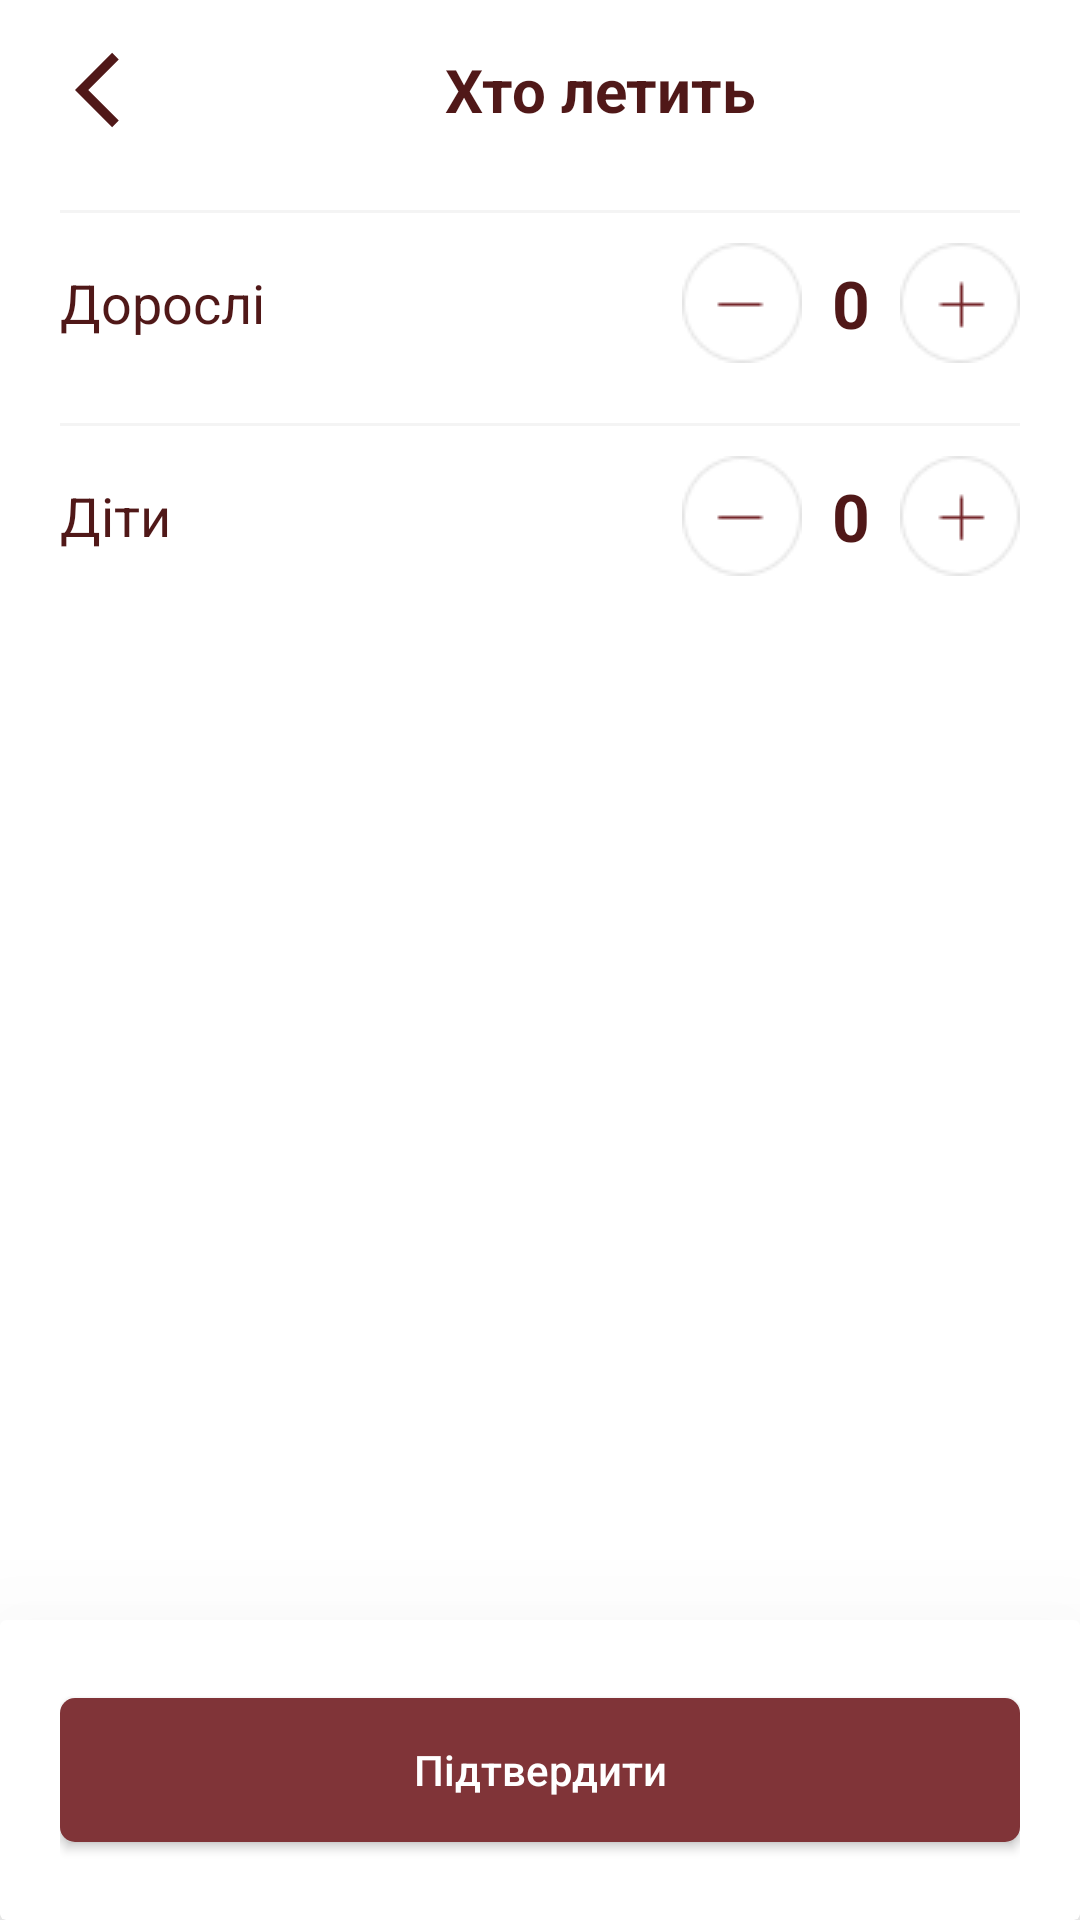

Where to tap for icons on this 1080 x 1920 app screen, as [x,y]:
back arrow: [97,90]
decrease passenger: [742,303], [742,516]
increase passenger: [960,303], [960,516]
